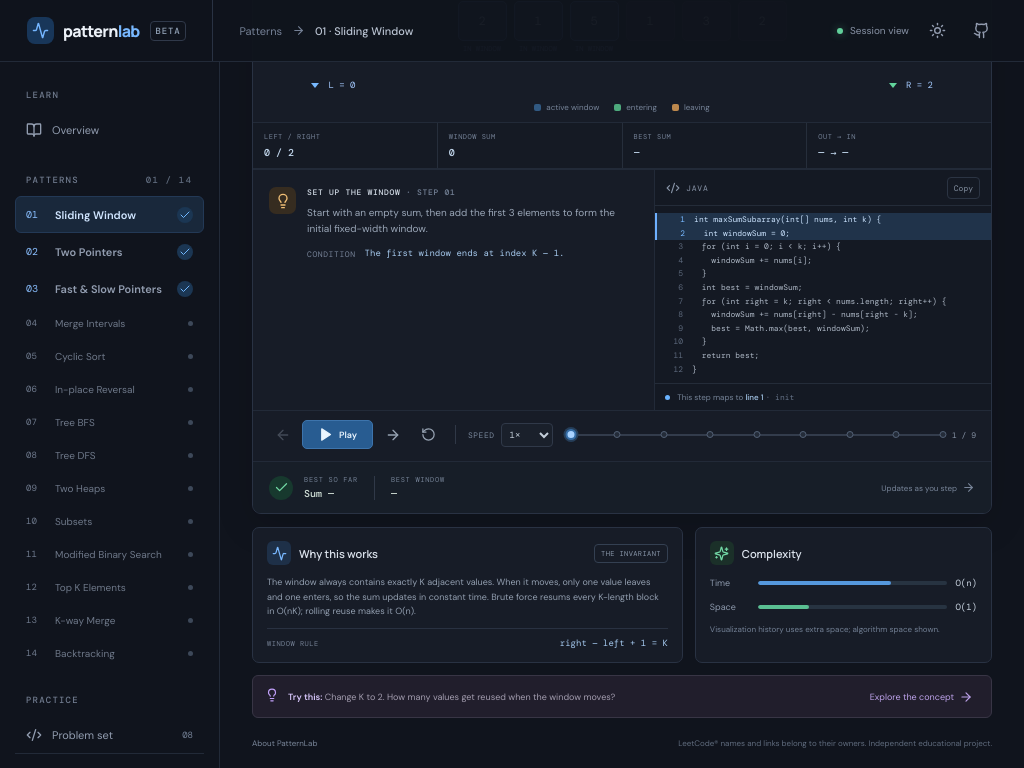
Scenario: PatternLab learning interface › loads the default walkthrough and advances through real steps
The width and height of the screenshot is (1024, 768).
(page scrolled)
Click the button named "Next step" at (392, 435), box [378, 421, 407, 449]
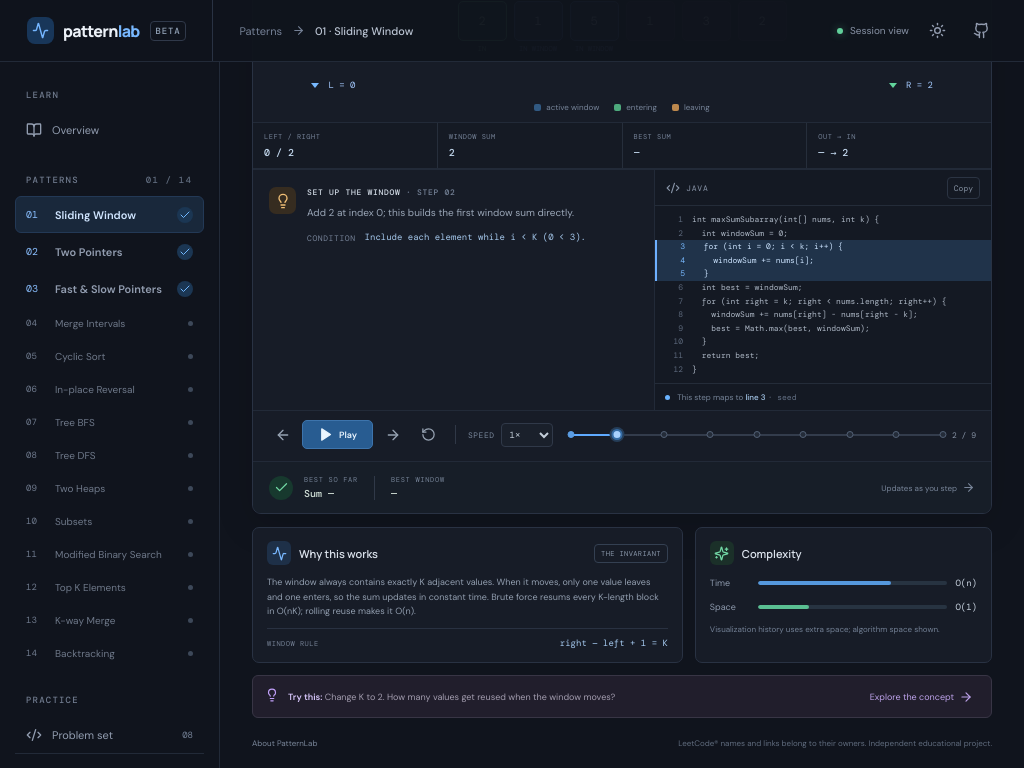
Expected: the text "· STEP 02" is shown, [406, 187, 456, 197]
Click the button named "Go to step 9" at (943, 434), box [940, 431, 946, 438]
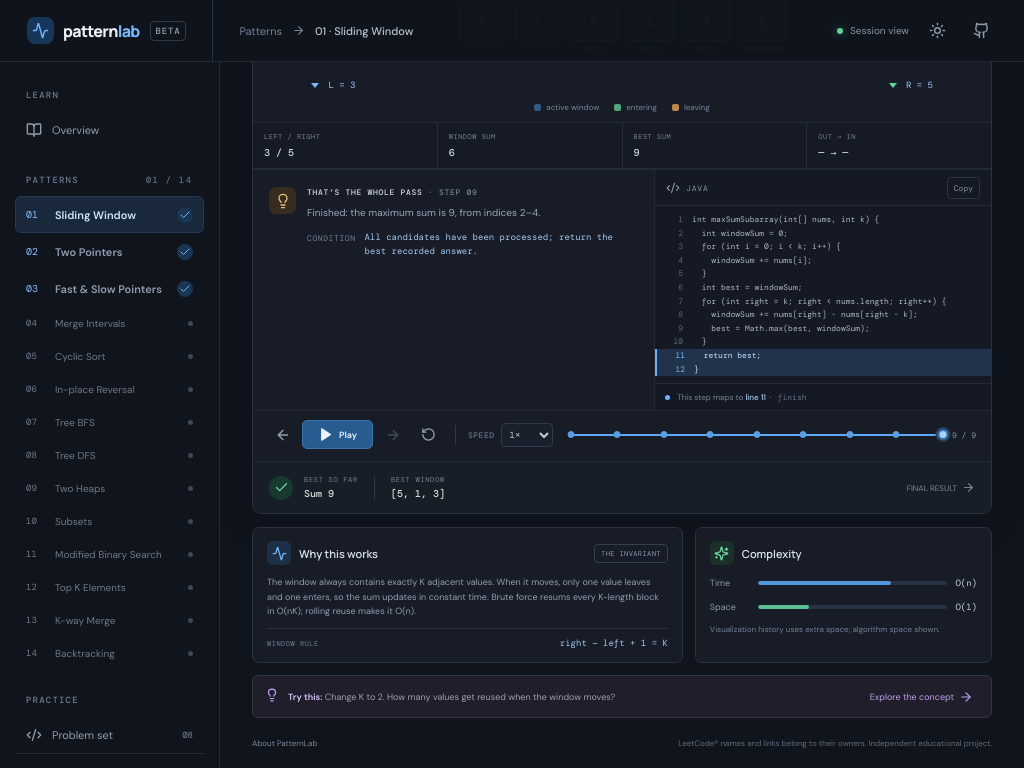
Expected: the text "Sum 9" is shown, [304, 487, 334, 500]
